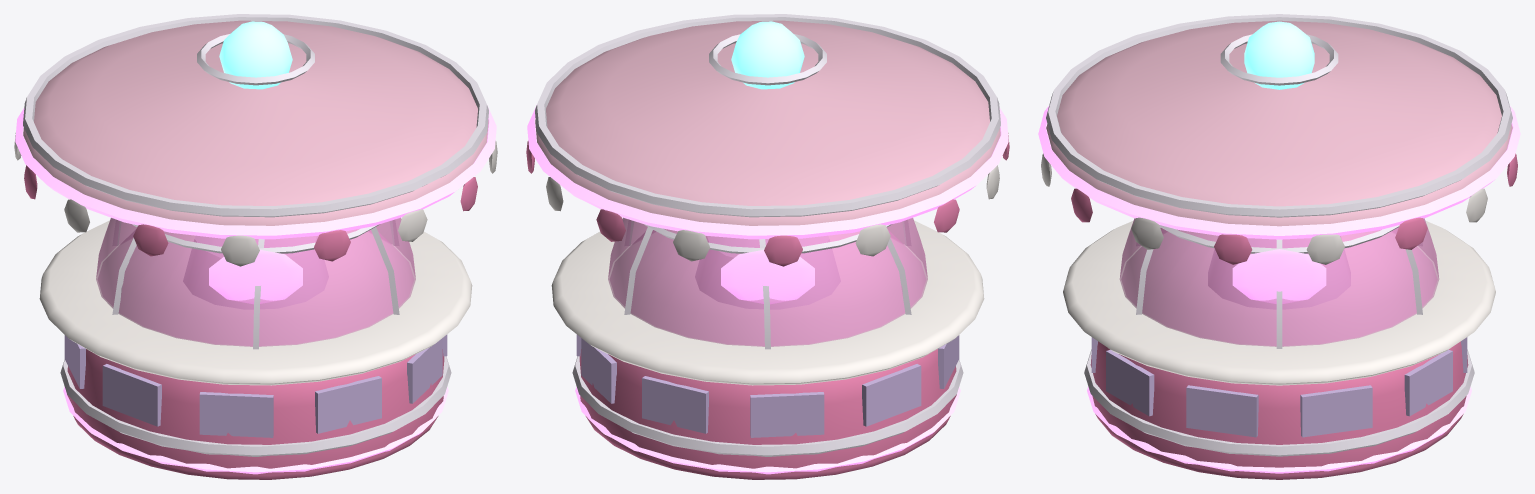
Rendered from kiosk_pod.glb.
3 views of the same model, side by side, from view 1: azimuth 30°, elevation 25°; view 2: azimuth 150°, elevation 25°; view 3: azimuth 270°, elevation 25° (orthographic).
Visible parts, largest first — view 1: kiosk_pod; view 2: kiosk_pod; view 3: kiosk_pod.
Boxes of the visible parts, x1,y1,x2,y2 form: kiosk_pod: (14, 14, 497, 479); kiosk_pod: (526, 14, 1009, 479); kiosk_pod: (1038, 14, 1520, 479).
Size of the model in its own units: 3.92 by 3.4 by 3.92.
